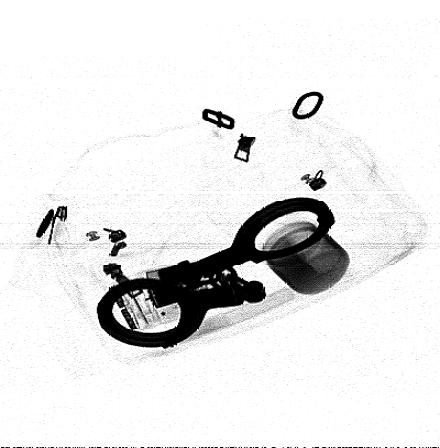HandCuffs: (96, 197, 336, 349)
